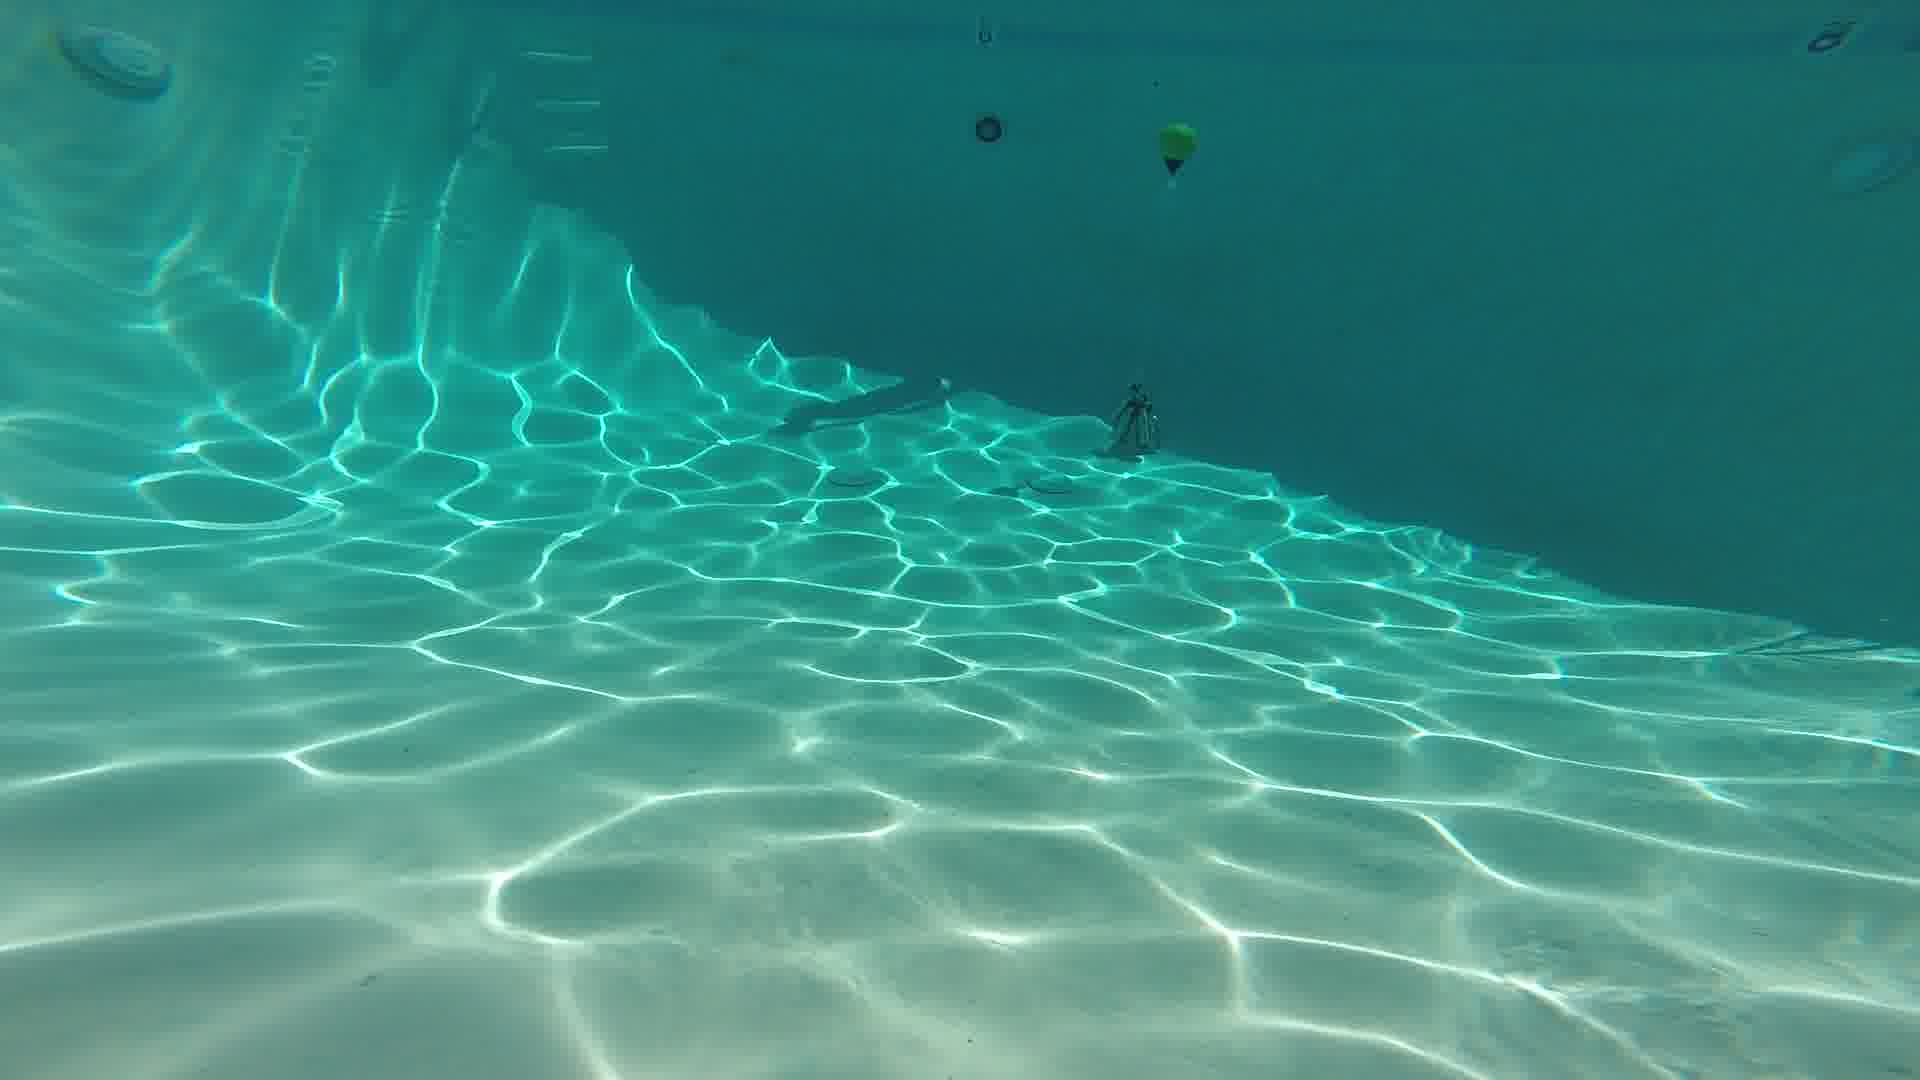yellow_buoy: (1160, 123, 1192, 175)
